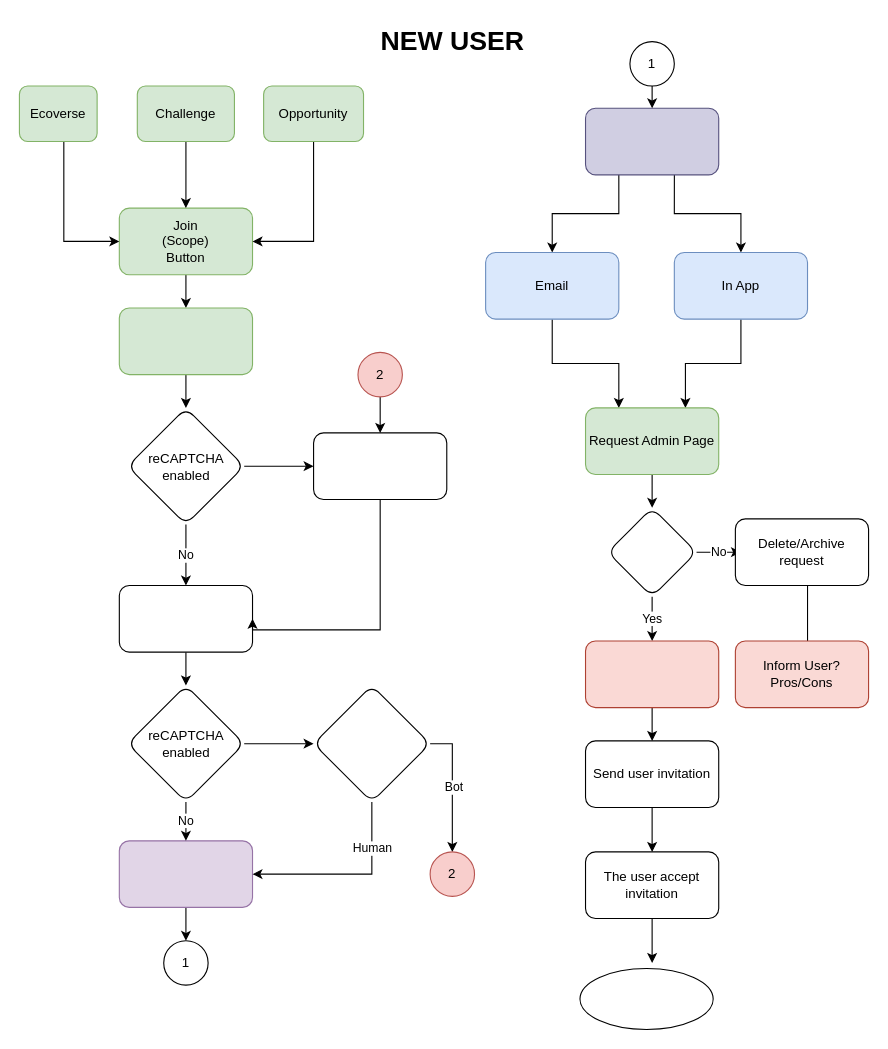
Image size: 888x1049. Some labels were removed from this diagram. The shapes that lost their labels are listed below. From the top down, each one's centre as x and y in pixels, then its label:
At [651,141]: "Send notification to interested parties".
At [185,341]: "Populate a form".
At [379,466]: "Challenge user".
At [652,552]: "Approve?".
At [185,618]: "Send Request (scope)".
At [651,674]: "Create user in correct group".
At [371,743]: "Verify?".
At [185,873]: "Request - Pending".
At [646,998]: "User has acces and can use CT".
